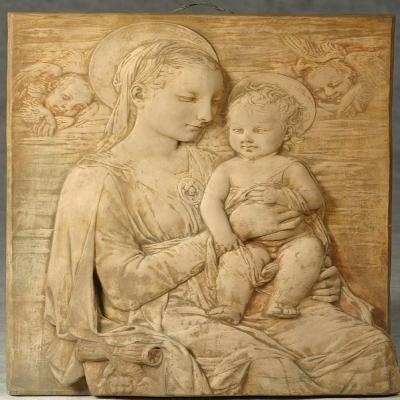sculpture: (5, 13, 400, 398)
